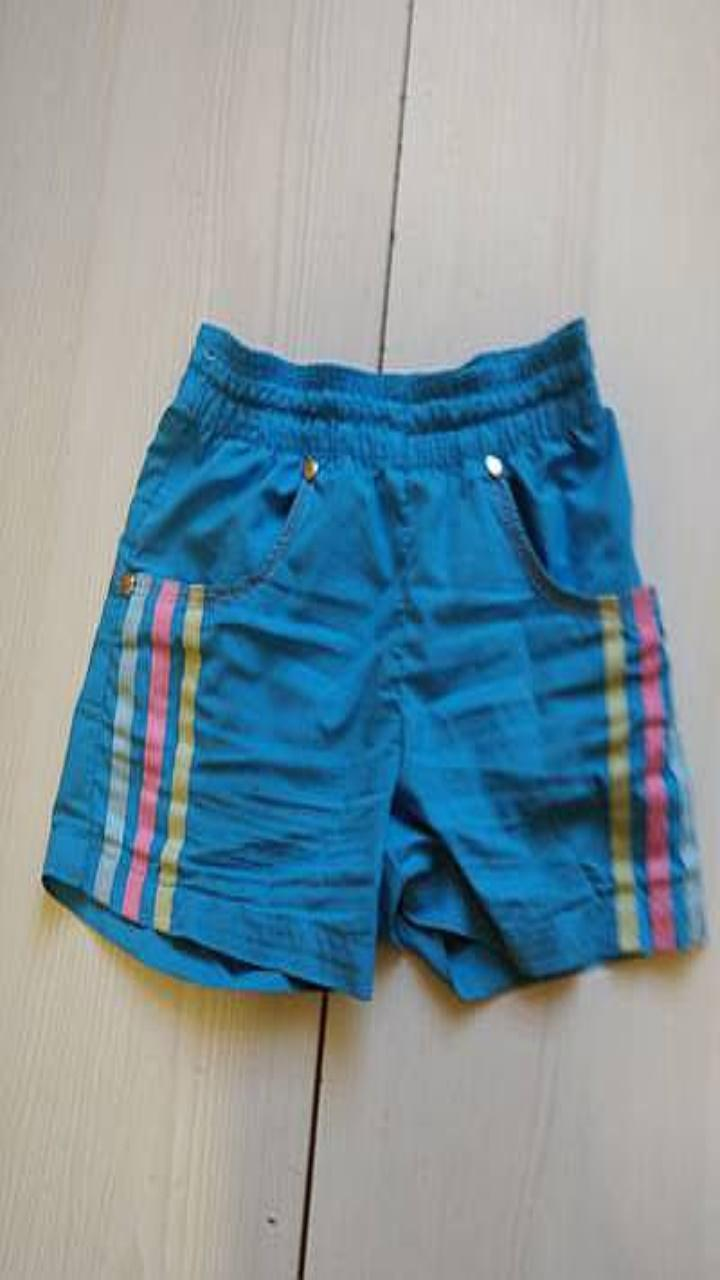Shorts: (42, 317, 706, 999)
